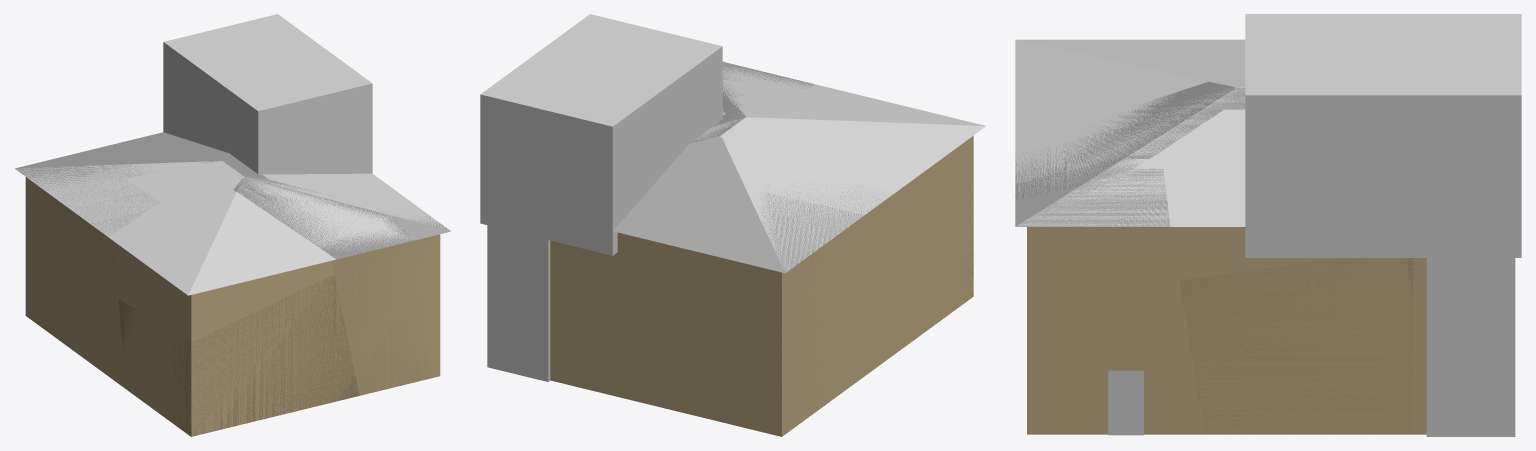
Rendered from bld_firehouse_a.glb.
3 renders of one model, left to right at view 1: azimuth 30°, elevation 25°; view 2: azimuth 150°, elevation 25°; view 3: azimuth 270°, elevation 25°, orthographic. The views are drawn at different scales.
Visible parts, largest first — view 1: damaged, intact, chunk_00, chunk_07, chunk_02, chunk_01, chunk_04, chunk_06, chunk_05; view 2: chunk_07, chunk_02, intact, damaged, chunk_03, chunk_00, chunk_06, chunk_04; view 3: damaged, chunk_07, intact, chunk_03, chunk_01, chunk_05, chunk_04.
Boxes of the visible parts, box(x1,y1,x2,y2) form: damaged: box(15, 132, 450, 436); intact: box(16, 153, 448, 436); chunk_00: box(116, 257, 332, 436); chunk_07: box(163, 14, 372, 174); chunk_02: box(25, 191, 116, 381); chunk_01: box(333, 251, 440, 401); chunk_04: box(116, 175, 332, 311); chunk_06: box(25, 161, 240, 256); chunk_05: box(262, 174, 440, 277); chunk_07: box(480, 14, 722, 255); chunk_02: box(617, 216, 886, 436); intact: box(692, 63, 985, 434); damaged: box(487, 62, 973, 436); chunk_03: box(487, 225, 617, 396); chunk_00: box(887, 152, 973, 359); chunk_06: box(617, 120, 886, 292); chunk_04: box(742, 117, 973, 215); damaged: box(1015, 81, 1515, 436); chunk_07: box(1245, 14, 1521, 257); intact: box(1015, 39, 1413, 434); chunk_03: box(1245, 258, 1515, 436); chunk_01: box(1027, 253, 1245, 434); chunk_05: box(1027, 109, 1245, 252); chunk_04: box(1149, 60, 1245, 88).
Size of the model in its own units: 14 by 12 by 16.
